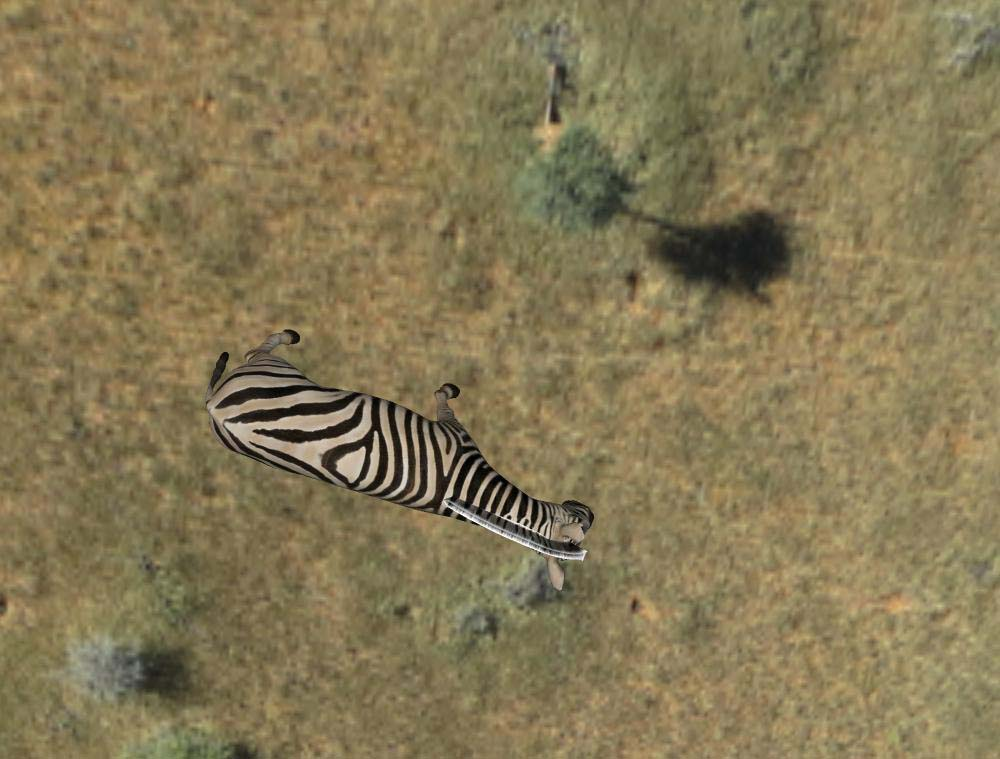zebra: (202, 319, 596, 565)
